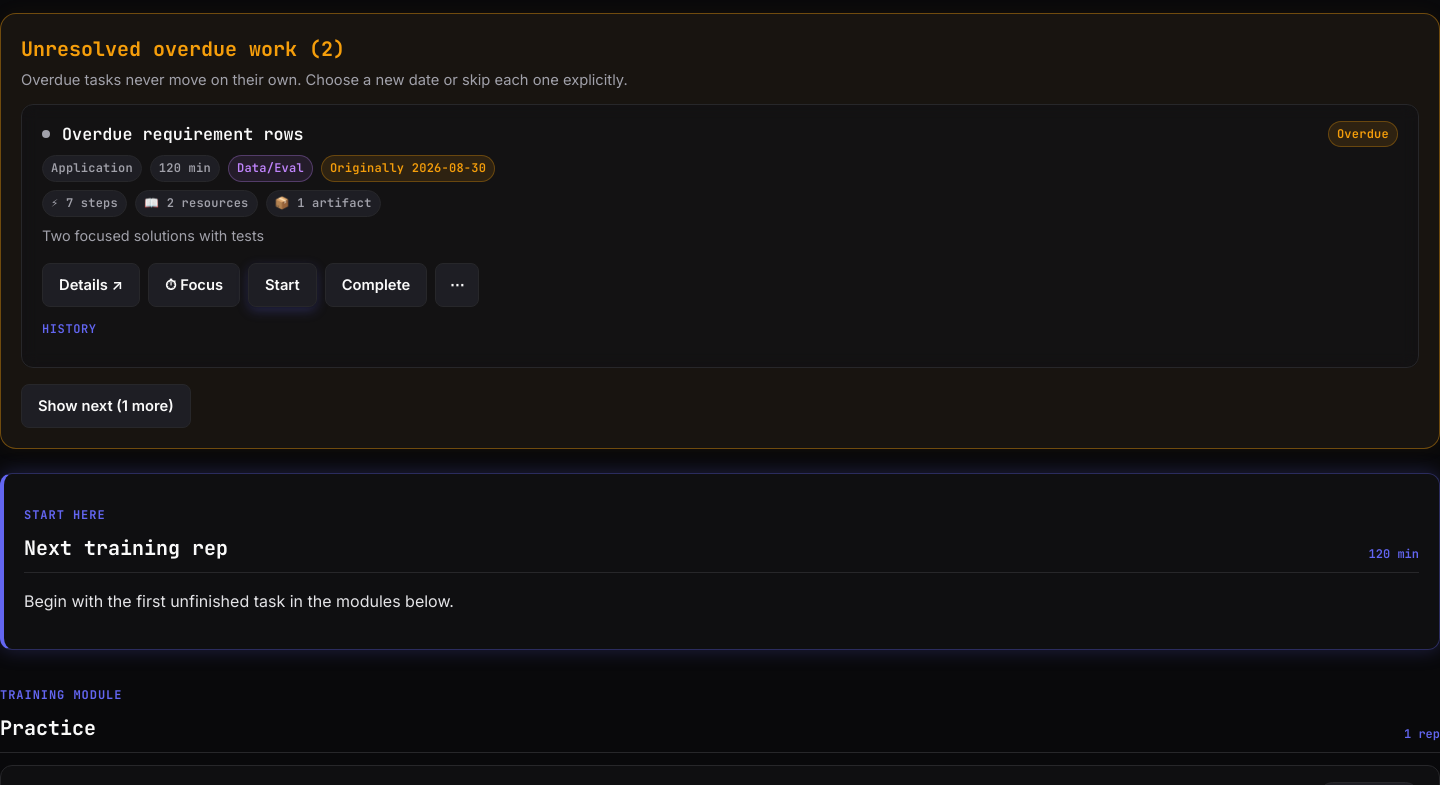
Test case: OverdueQueue (Task 9) › dismisses the queue for the session while the task stays overdue
This screenshot has width=1440, height=785.
(page scrolled)
Check: the heading "Unresolved overdue work (2)" is shown, box top-left (21, 36), bottom-right (345, 62)
Click the button "Show next (1 more)". click: [106, 406]
box: top-left (21, 384), bottom-right (191, 428)
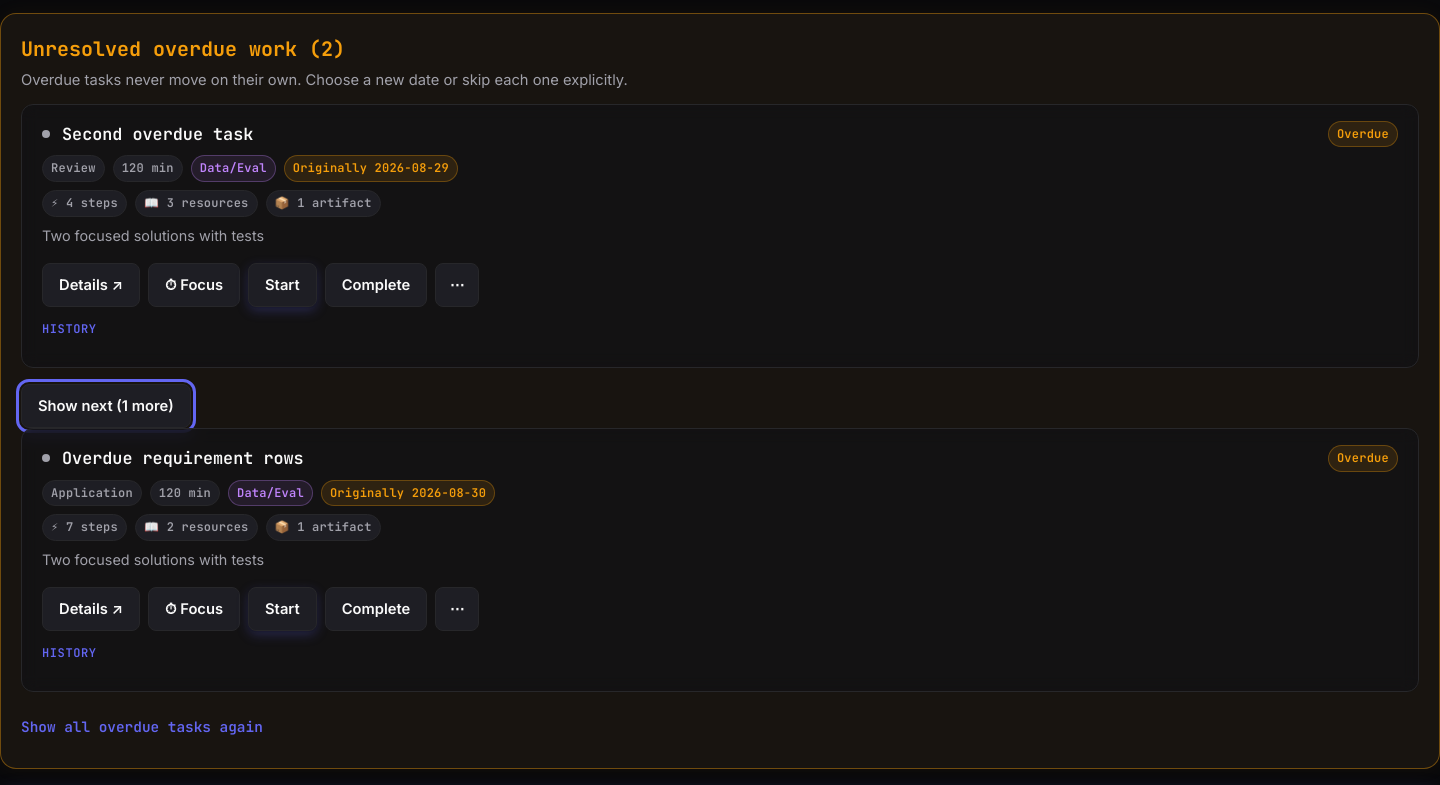
Click the button "Show next (1 more)". click: [106, 406]
box: top-left (21, 384), bottom-right (191, 428)
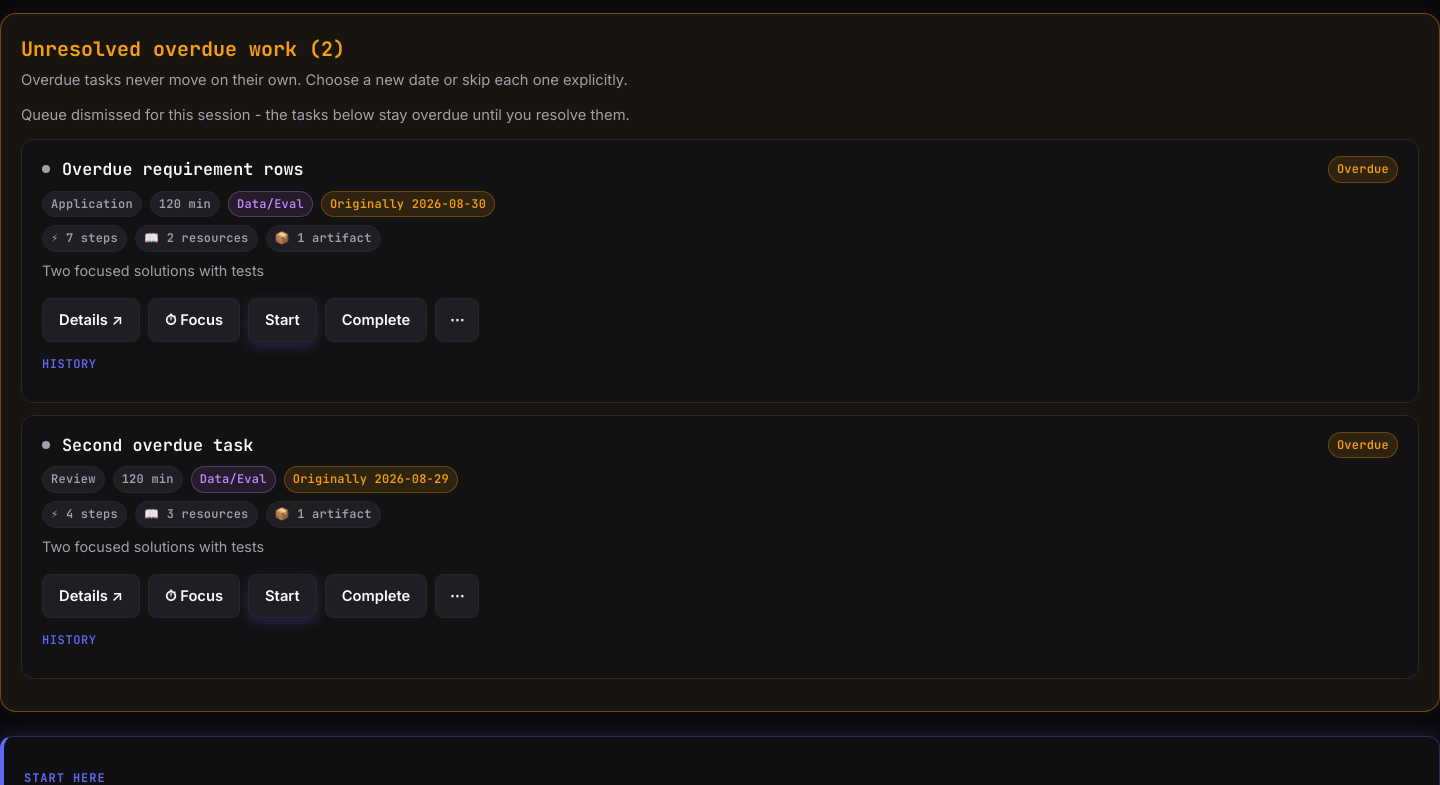
Check: the heading "Overdue requirement rows" is shown, box top-left (62, 158), bottom-right (304, 180)
Check: the text "Queue dismissed for this session" is shown, box top-left (21, 106), bottom-right (630, 124)
